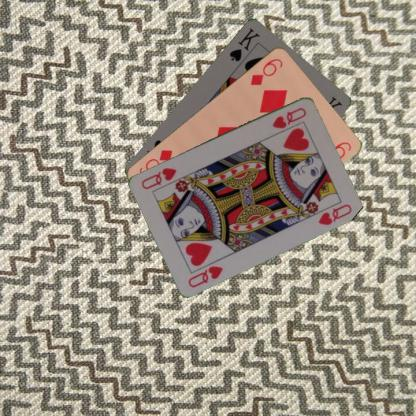6d: (247, 55, 284, 87)
Ks: (227, 25, 261, 62)
Qh: (186, 263, 224, 289), (269, 105, 308, 130)
